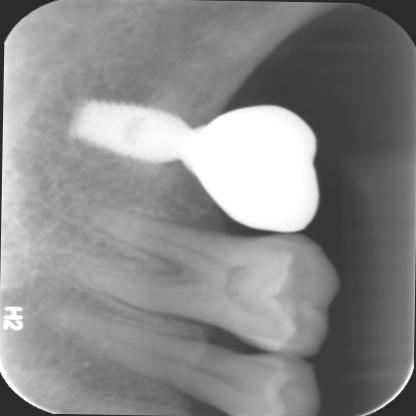Bicon: (71, 94, 199, 167)
